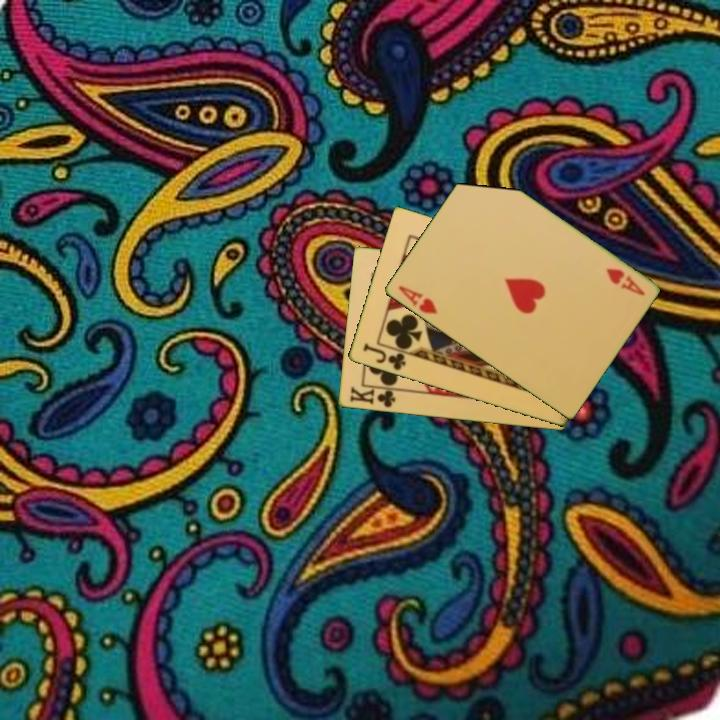Ah: (394, 282, 440, 317), (602, 265, 648, 299)
Jc: (359, 340, 408, 373)
Kc: (346, 383, 401, 411)
